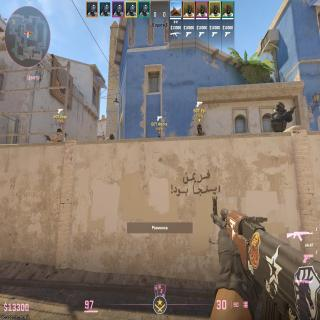CT-Body: (270, 101, 289, 132)
CT-Head: (276, 100, 286, 112), (110, 133, 115, 140)
T-Body: (55, 128, 65, 142)
T-Head: (197, 124, 202, 134), (57, 128, 62, 134)
